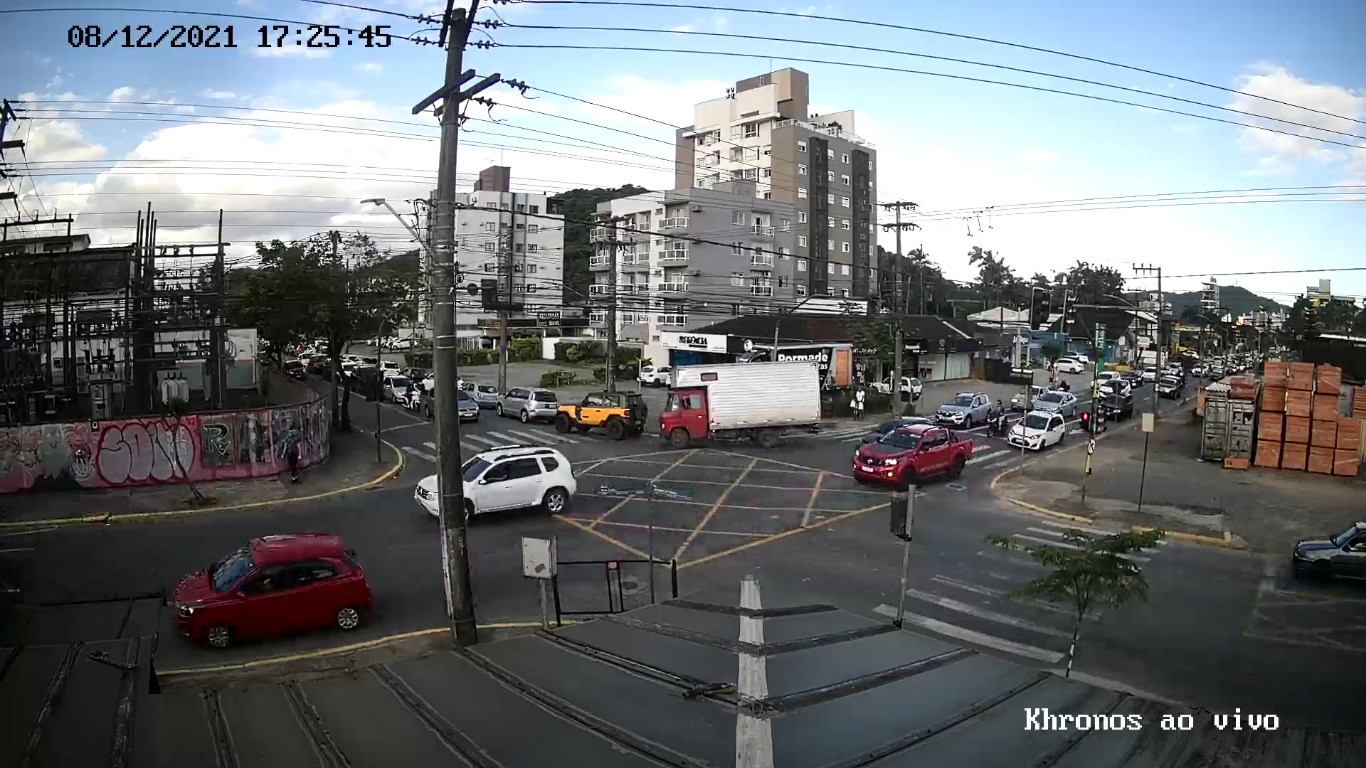car: (174, 534, 373, 649), (413, 446, 577, 526), (853, 423, 974, 489)
